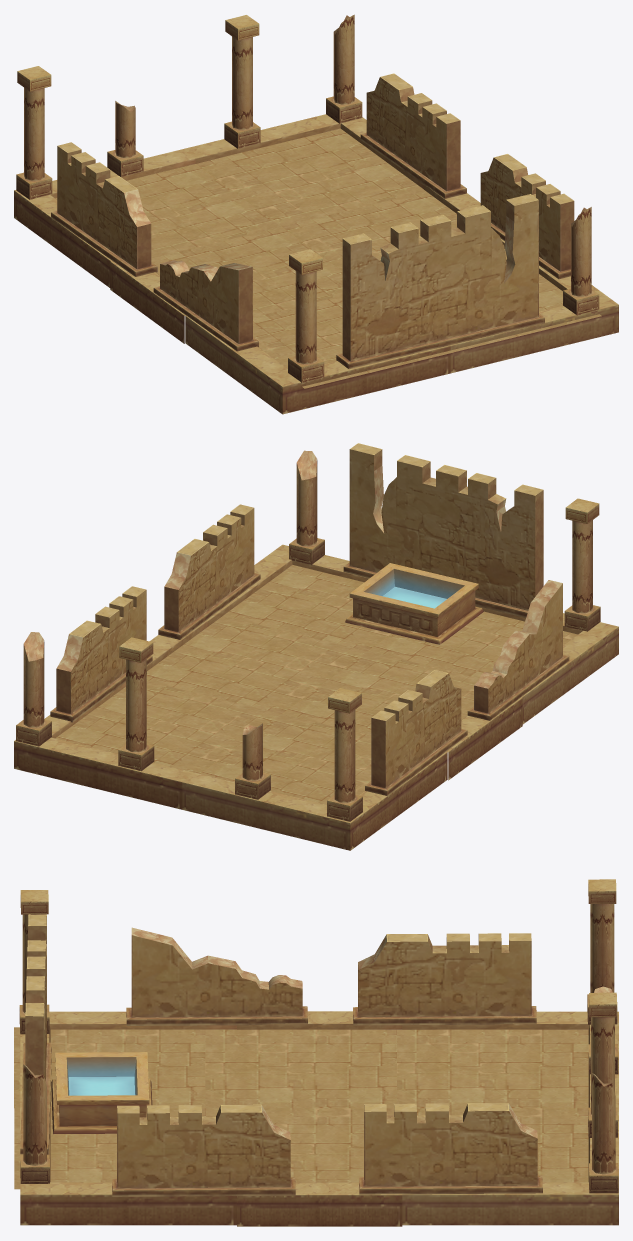
The model's file is Area_04_2.fbx.
3 renders of one model, top to bottom at view 1: azimuth 30°, elevation 25°; view 2: azimuth 150°, elevation 25°; view 3: azimuth 270°, elevation 25°, orthographic. The views are drawn at different scales.
Visible parts, largest first — view 1: Area_04_2; view 2: Area_04_2; view 3: Area_04_2.
Boxes of the visible parts, <box> form: Area_04_2: <box>14,14,618,414</box>; Area_04_2: <box>14,443,618,850</box>; Area_04_2: <box>14,879,618,1226</box>.
Size of the model in its own units: 3183 by 1346 by 4399.
1 material, 1 textured.
